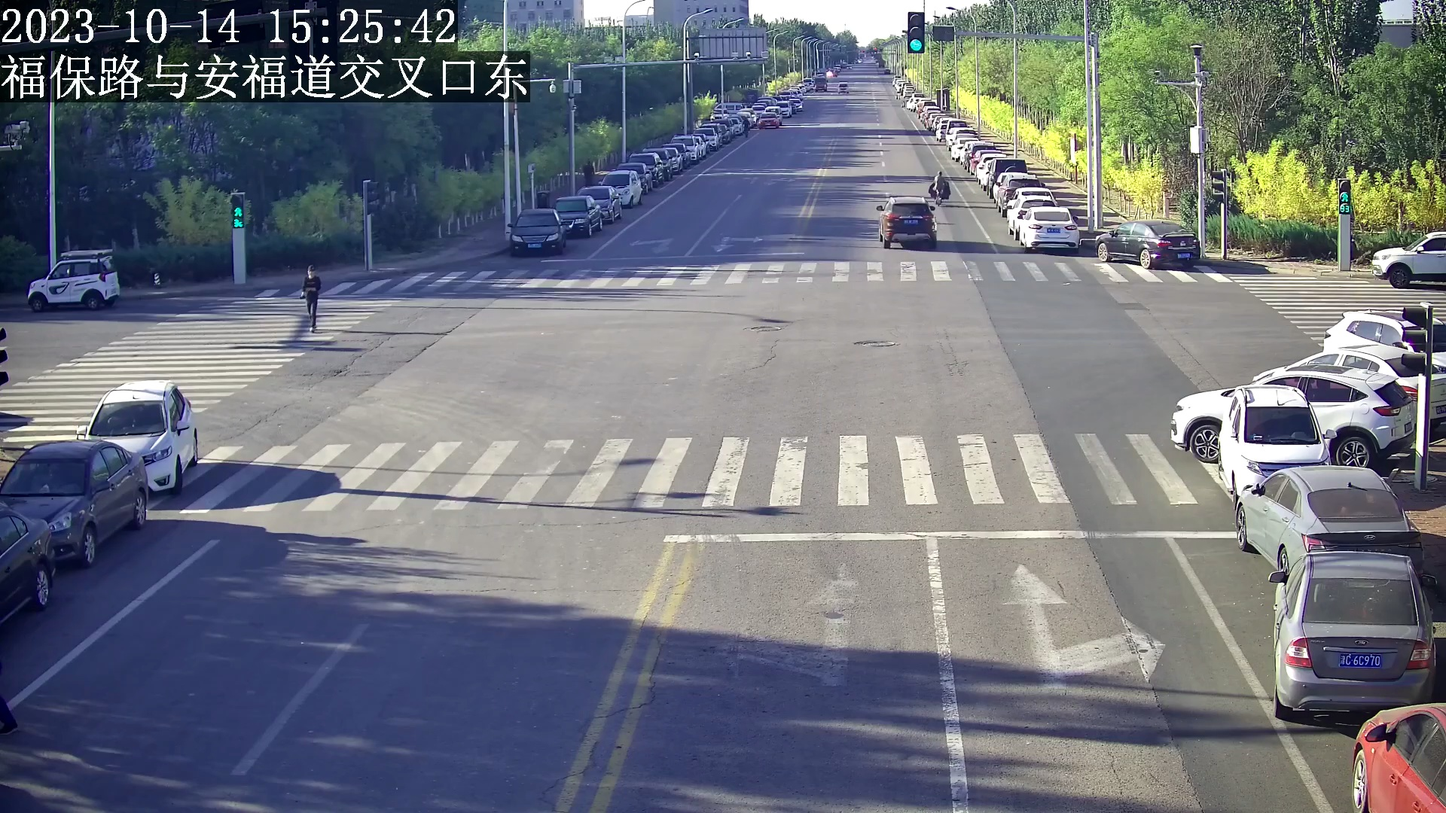person: (299, 263, 323, 333)
vehicle: (1271, 547, 1437, 723), (1160, 362, 1413, 465), (1230, 462, 1417, 571), (1, 437, 149, 562), (74, 378, 203, 492), (1219, 379, 1330, 486), (1348, 701, 1445, 813), (25, 246, 118, 312), (1092, 215, 1198, 272), (1370, 218, 1443, 288), (874, 195, 938, 251), (505, 206, 563, 260), (1014, 205, 1080, 248), (556, 192, 597, 233)
